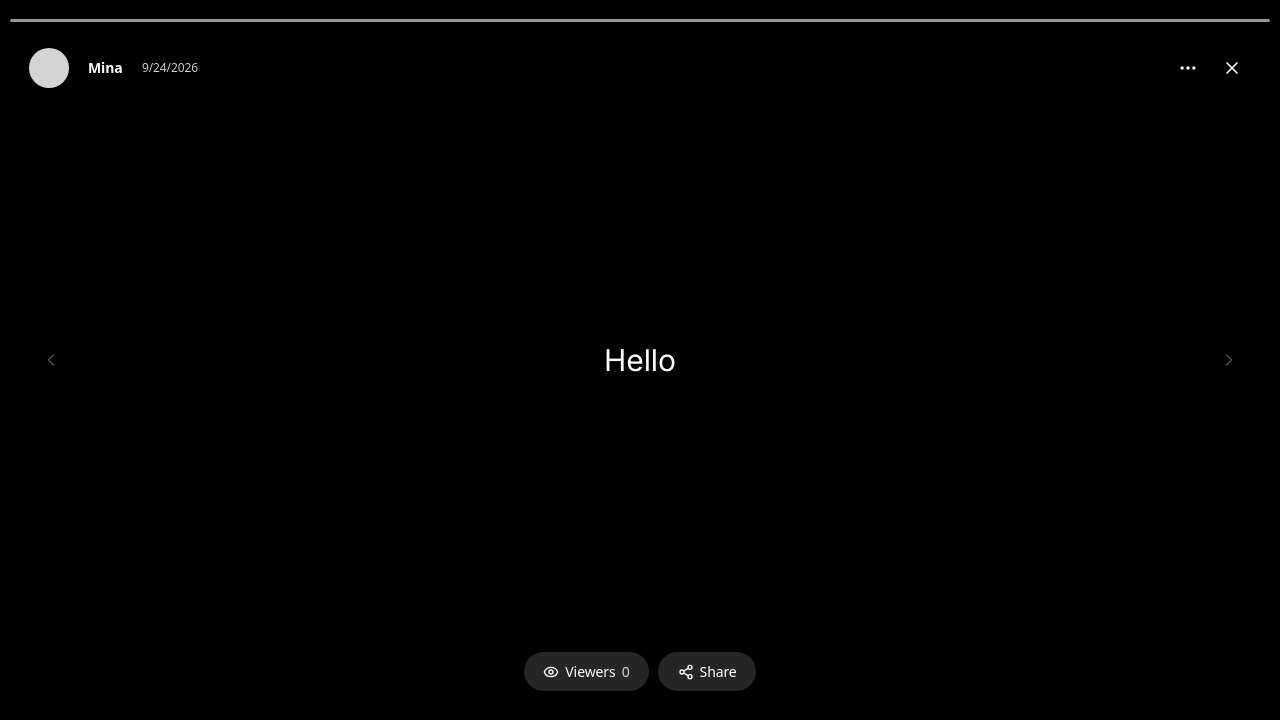
Test: report and block (moments#10) › keeps the owner's menu to delete only
The image size is (1280, 720).
Click the button with test id "story-menu-toggle".
click(1188, 68)  # box [1168,48,1207,88]
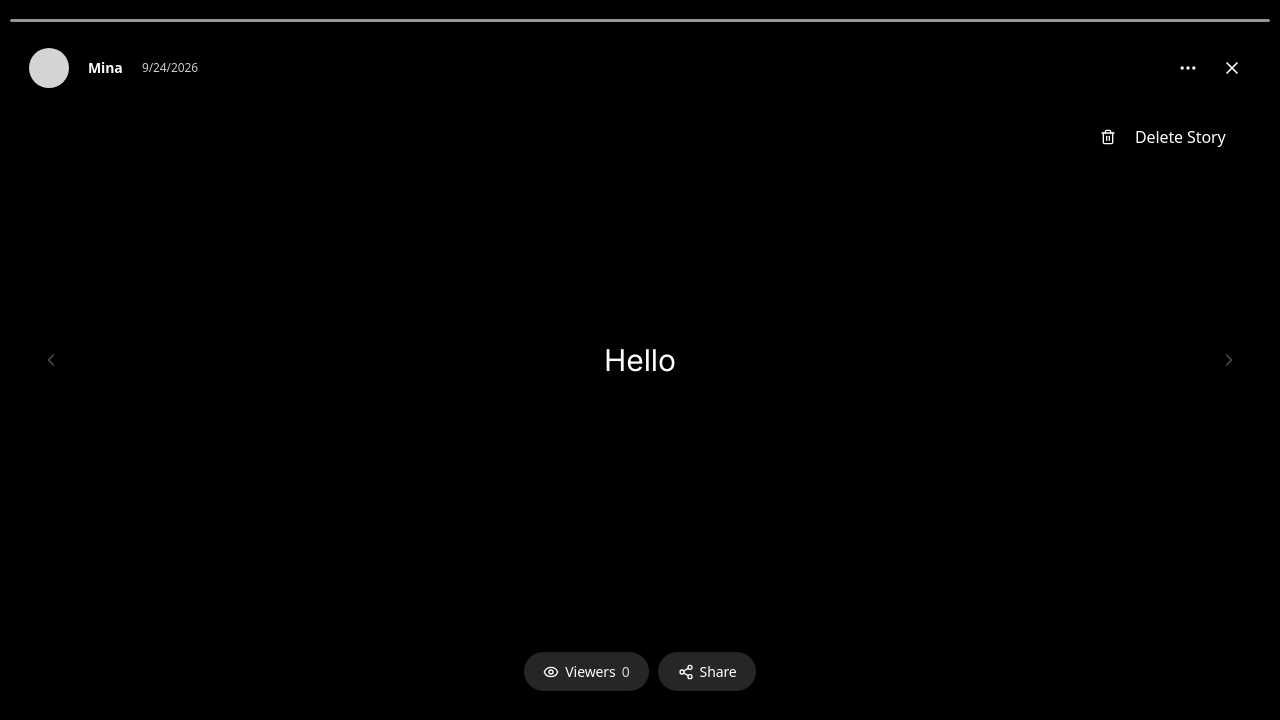
Now the button with test id "story-delete" is shown, box [1071,106,1254,168]
